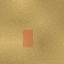vehicle: (22, 29, 32, 46)
